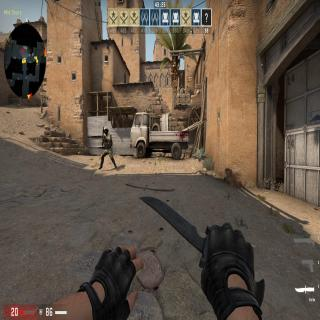CT-Body: (98, 126, 118, 171)
CT-Head: (103, 126, 110, 136)
